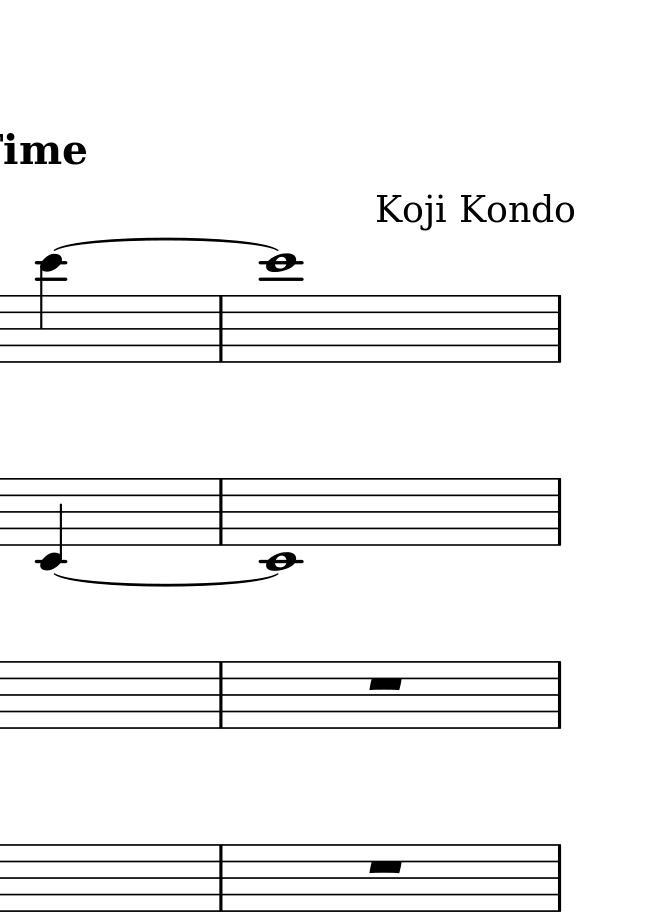1_-2: (262, 477, 299, 573)
1_12: (259, 252, 299, 365)
4_-2: (39, 479, 64, 570)
4_12: (36, 252, 66, 365)
Rests1: (365, 673, 407, 693), (366, 858, 406, 876)
Single_barline: (551, 296, 567, 362), (551, 479, 567, 545), (551, 845, 567, 911), (551, 662, 567, 727), (214, 297, 229, 362), (214, 479, 228, 544), (214, 663, 228, 727), (214, 848, 228, 910)
Slur: (49, 236, 281, 253), (53, 572, 280, 589)
